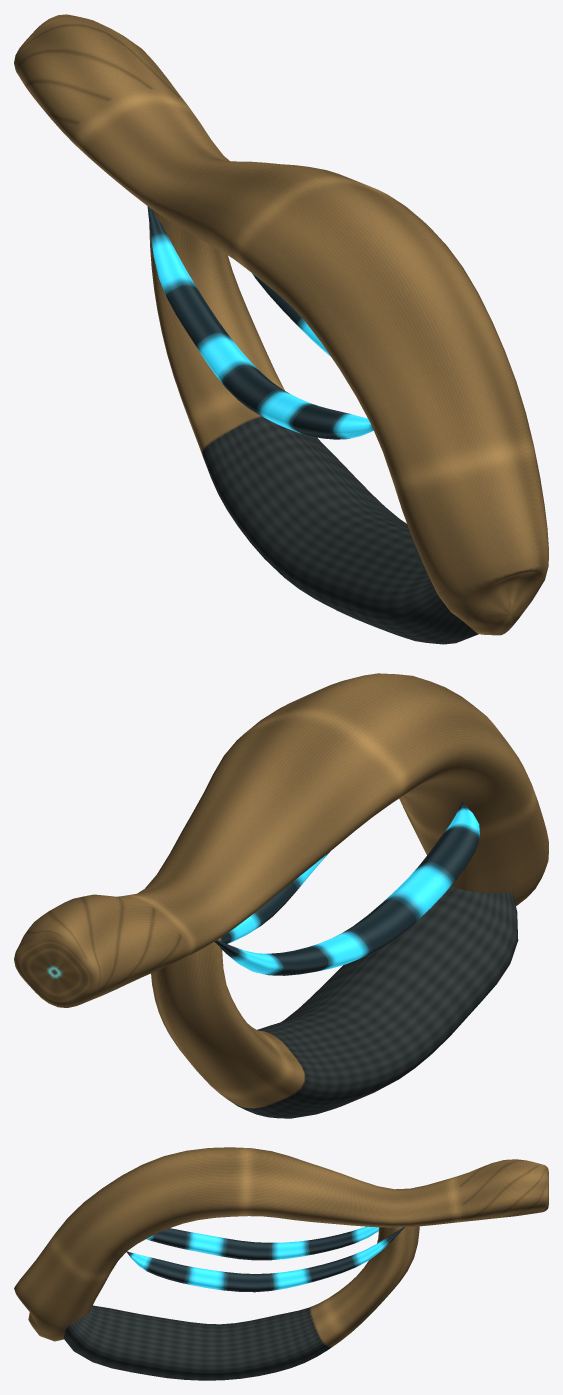
Rendered from loop_frame_zat.glb.
3 views of the same model, one above another, from view 1: azimuth 30°, elevation 25°; view 2: azimuth 150°, elevation 25°; view 3: azimuth 270°, elevation 25° (orthographic). The views are drawn at different scales.
Visible parts, largest first — view 1: ZatBody; view 2: ZatBody; view 3: ZatBody.
Boxes of the visible parts, x1=… form: ZatBody: x1=14, y1=14, x2=548, y2=644; ZatBody: x1=14, y1=673, x2=548, y2=1118; ZatBody: x1=14, y1=1147, x2=548, y2=1380.
Size of the model in its own units: 0.0642 by 0.1457 by 0.3134.
1 material, 1 textured.
